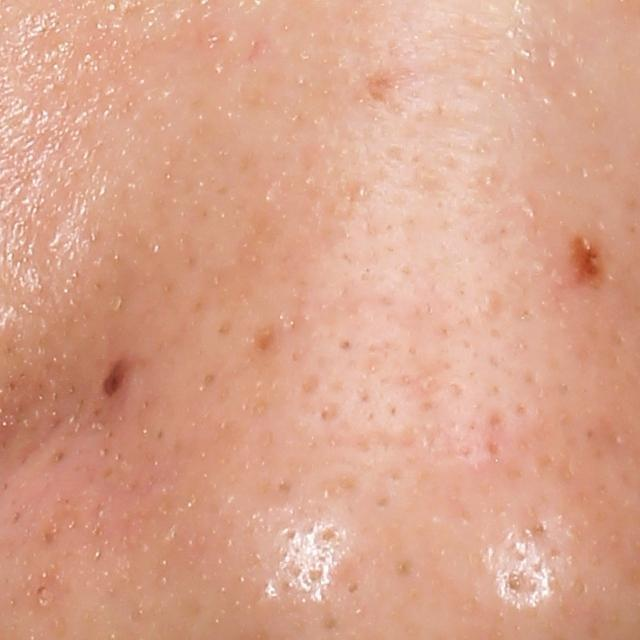comedo: (475, 288, 501, 320)
nevus: (566, 229, 608, 294), (100, 354, 136, 398)
